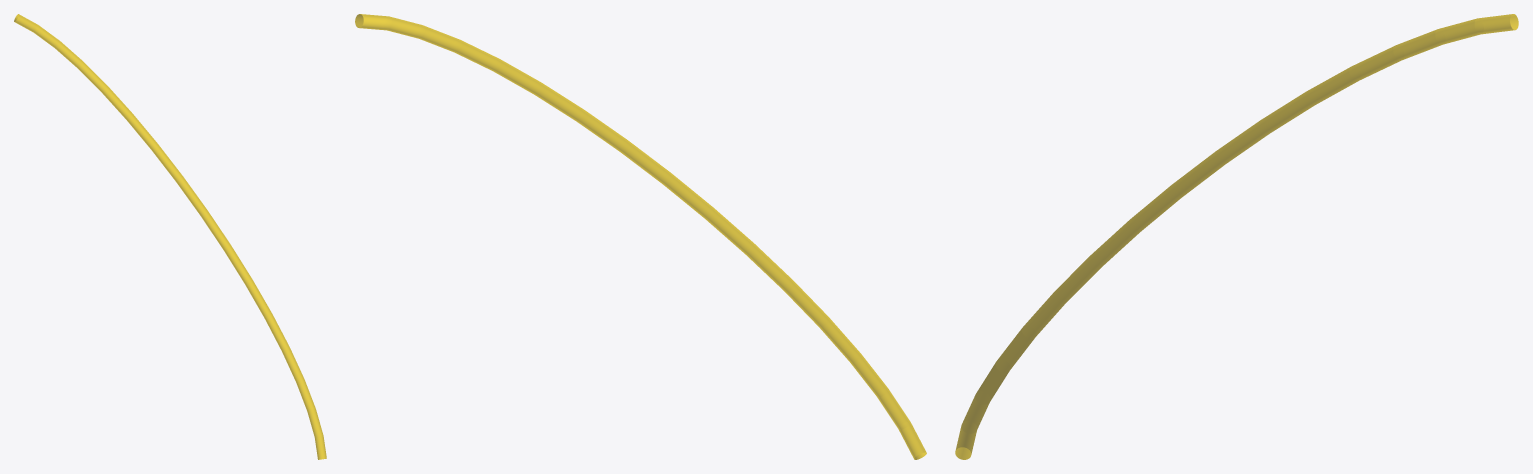
File: Event_27938768_track_82.fbx
The picture shows the model from 3 angles, left to right: view 1: azimuth 90°, elevation 25°; view 2: azimuth 150°, elevation 25°; view 3: azimuth 270°, elevation 25°; orthographic projection. The views are drawn at different scales.
Parts seen in each view (by area): view 1: Model; view 2: Model; view 3: Model.
Part boxes in pixels (x1,y1,x2,y2): Model: (14, 14, 326, 459); Model: (355, 14, 926, 459); Model: (955, 14, 1518, 459).
Size of the model in its own units: 1.08 by 1.68 by 1.37.
